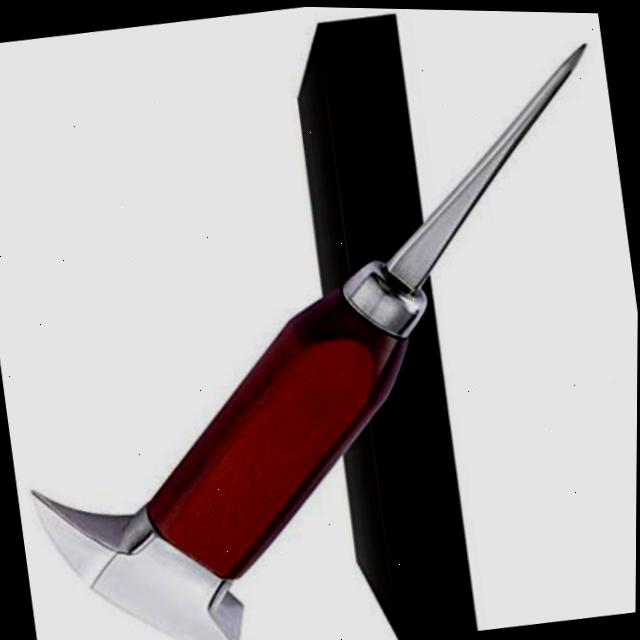ice pick: (0, 30, 640, 640)
